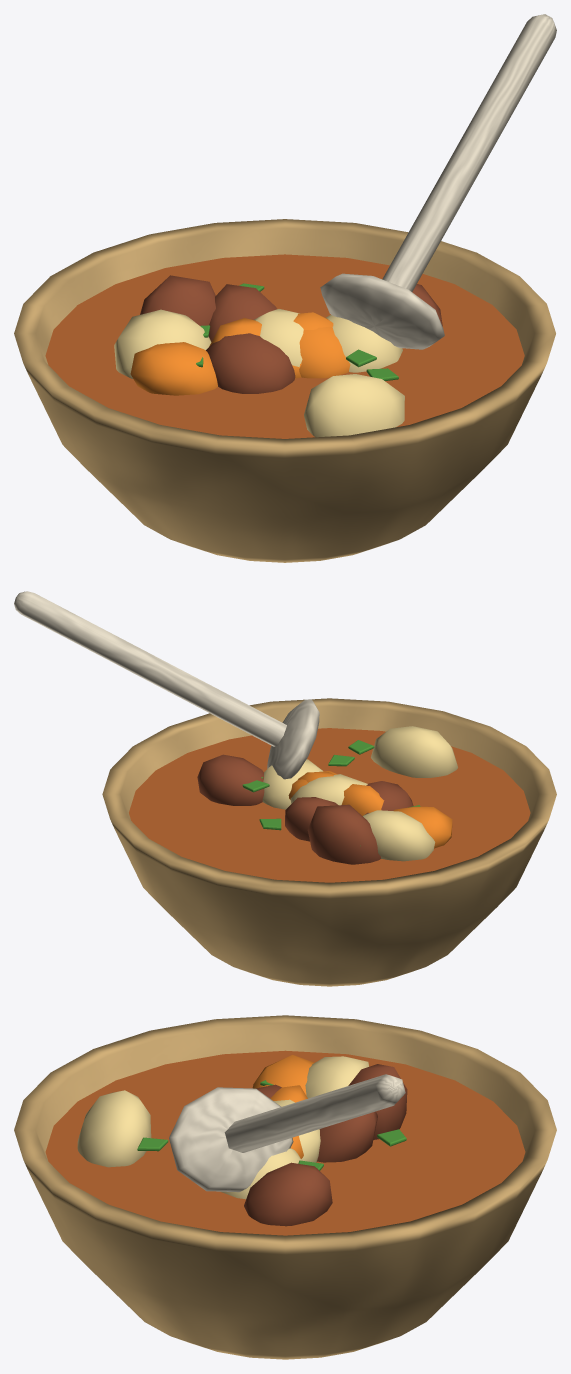
Rendered from stew.glb.
The picture shows the model from 3 angles, top to bottom: view 1: azimuth 30°, elevation 25°; view 2: azimuth 150°, elevation 25°; view 3: azimuth 270°, elevation 25°; orthographic projection. The views are drawn at different scales.
Visible parts, largest first — view 1: stew, spoon; view 2: stew, spoon; view 3: stew, spoon.
Part boxes in pixels (bbox=[...]): stew: bbox=[14, 219, 555, 562]; spoon: bbox=[320, 14, 556, 349]; stew: bbox=[102, 698, 556, 986]; spoon: bbox=[14, 591, 319, 779]; stew: bbox=[14, 1015, 556, 1359]; spoon: bbox=[169, 1074, 405, 1192].
Size of the model in its own units: 0.2371 by 0.1535 by 0.2.
Materials: 7 (2 with a texture image).
